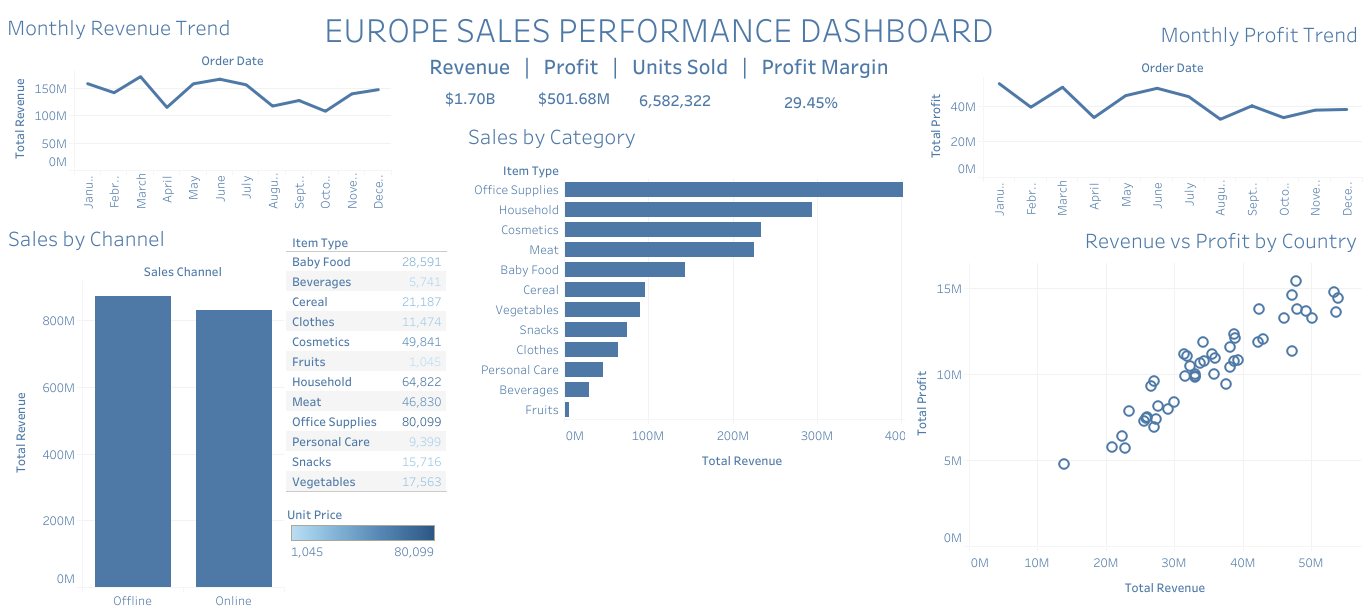

Layout of this report page (visuals, bound fields, positions):
{"tool":"tableau","page":{"name":"Dashboard 1","canvas":[1000,1000],"units":"permille","ordinal":0},"visuals":[{"type":"title","box":[81.8,3.3,799.1,134]},{"type":"worksheet","title":"Monthly Revenue Trend","mark":"Line","rows":["Total Revenue"],"cols":["Order Date"],"box":[2.2,11.4,283.4,333.3]},{"type":"worksheet","title":"Monthly Profit Trend","mark":"Line","rows":["Total Profit"],"cols":["Order Date"],"box":[671.3,22.9,323.6,333.3]},{"type":"worksheet","title":"Revenue","mark":"Automatic","box":[322.1,117.7,205.3,119.3]},{"type":"worksheet","title":"Profit","mark":"Automatic","box":[383.5,117.7,139.5,137.2]},{"type":"worksheet","title":"Unit Sold","mark":"Automatic","box":[463.8,120.9,132.9,102.9]},{"type":"worksheet","title":"Profit Margin %","mark":"Automatic","box":[563.2,124.2,181.9,138.9]},{"type":"worksheet","title":"Sales by Category","mark":"Automatic","rows":["Item Type"],"cols":["Total Revenue"],"box":[338.9,189.5,333.1,648.7]},{"type":"worksheet","title":"Sheet 10","mark":"Automatic","rows":["Item Type"],"box":[208.9,352.9,145.4,509.8]},{"type":"worksheet","title":"Sales by Channel","mark":"Automatic","rows":["Total Revenue"],"cols":["Sales Channel"],"box":[2.9,356.2,204.5,638.9]},{"type":"worksheet","title":"Revenue vs Profit by Country","mark":"Automatic","rows":["Total Profit"],"cols":["Total Revenue"],"box":[661.1,359.5,333.1,625.8]},{"type":"legend","title":"Sheet 10","param":"[federated.0kbkgkp0pmn1yq116q6xr01dwrl3].[sum:Unit Price:qk]","box":[209.6,818.6,111,129.1]}]}

Visuals, with their boxes on the dashboard's canvas, which has no fixed pixel size, in thousandths of its width and height (x1, y1, x2, y2). These are canvas units, not pixel positions in the 1368x611 screenshot, which may show the page scaled, cropped or inside an application window:
title: select_region(82, 3, 881, 137)
"Monthly Revenue Trend" worksheet (Line marks): select_region(2, 11, 286, 345)
"Monthly Profit Trend" worksheet (Line marks): select_region(671, 23, 995, 356)
"Revenue" worksheet: select_region(322, 118, 527, 237)
"Profit" worksheet: select_region(384, 118, 523, 255)
"Unit Sold" worksheet: select_region(464, 121, 597, 224)
"Profit Margin %" worksheet: select_region(563, 124, 745, 263)
"Sales by Category" worksheet: select_region(339, 190, 672, 838)
"Sheet 10" worksheet: select_region(209, 353, 354, 863)
"Sales by Channel" worksheet: select_region(3, 356, 207, 995)
"Revenue vs Profit by Country" worksheet: select_region(661, 360, 994, 985)
"Sheet 10" legend: select_region(210, 819, 321, 948)
